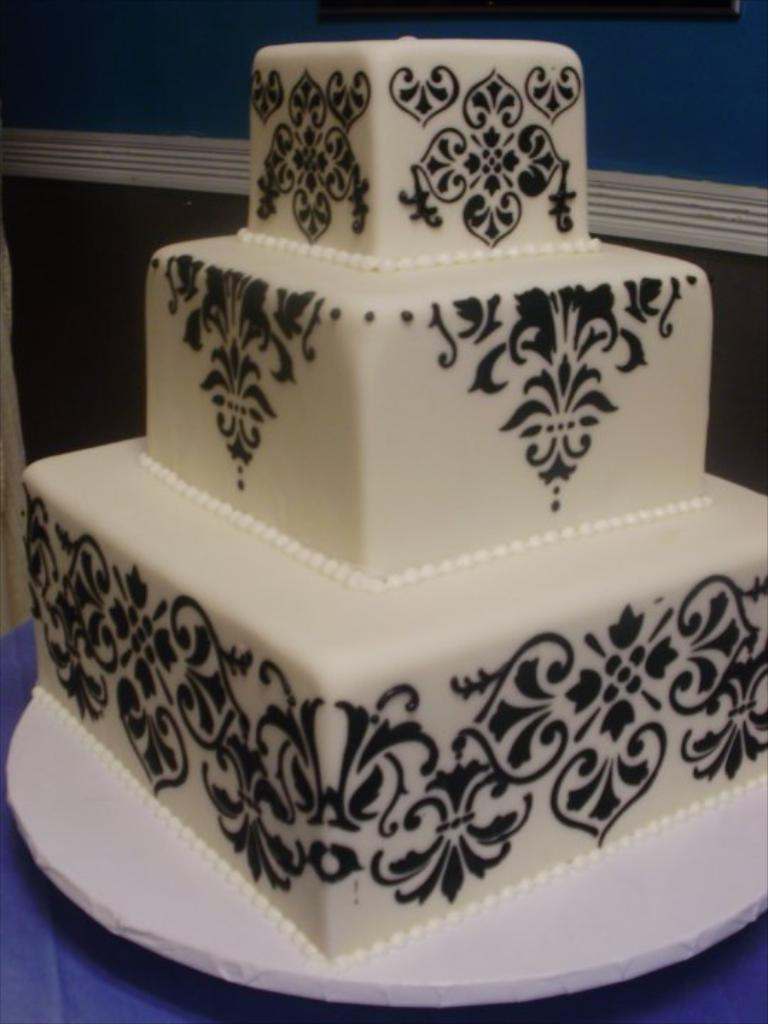cake: (23, 34, 767, 967)
